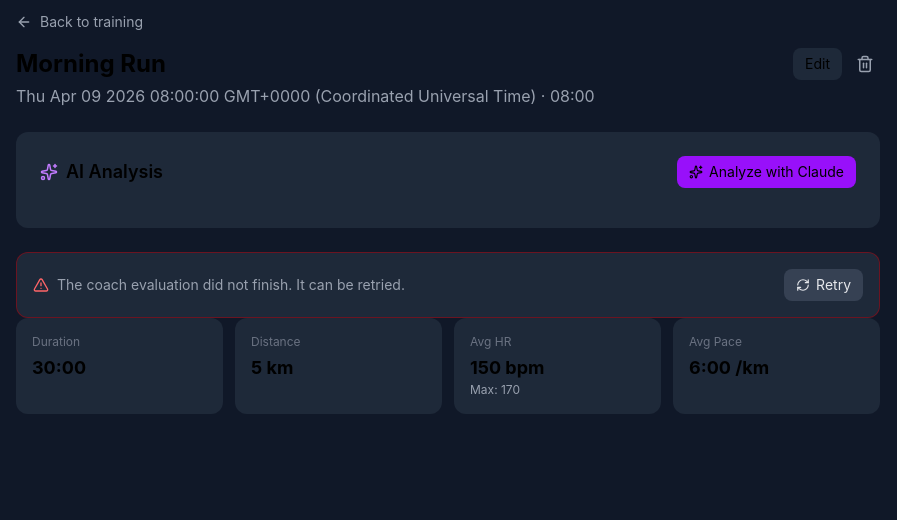
it: TrainingDetail – stride evaluation over SSE › retries via the day reevaluate endpoint and shows the stored evaluation
This screenshot has width=897, height=520.
Check: the heading "Morning Run" is shown, box [16,49,166,78]
Check: the text "The coach evaluation did not finish. It can be retried." is shown, box [33,275,405,295]
Click the button "Retry": x=824, y=285 [784,269,863,301]
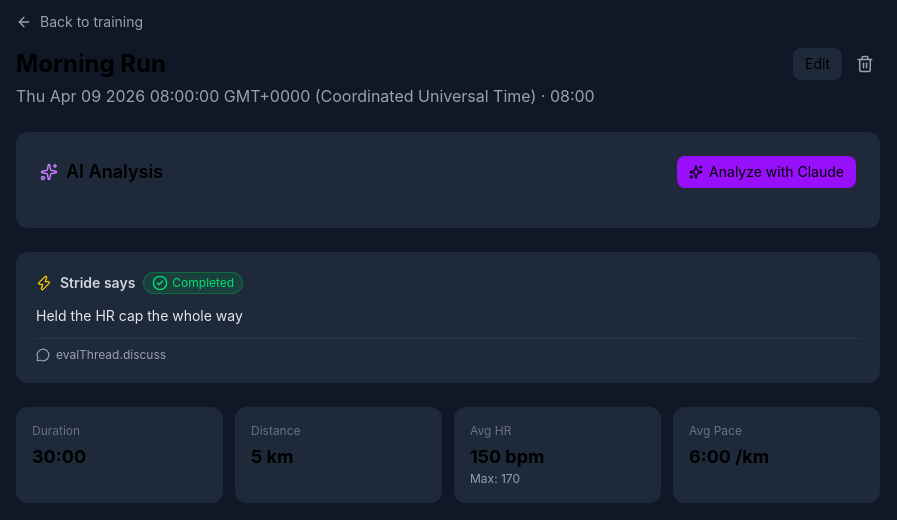
Check: the text "Held the HR cap the whole way" is shown, box [36,307,243,324]
Check: the text "The coach evaluation did not finish. It can be retried." is gone
